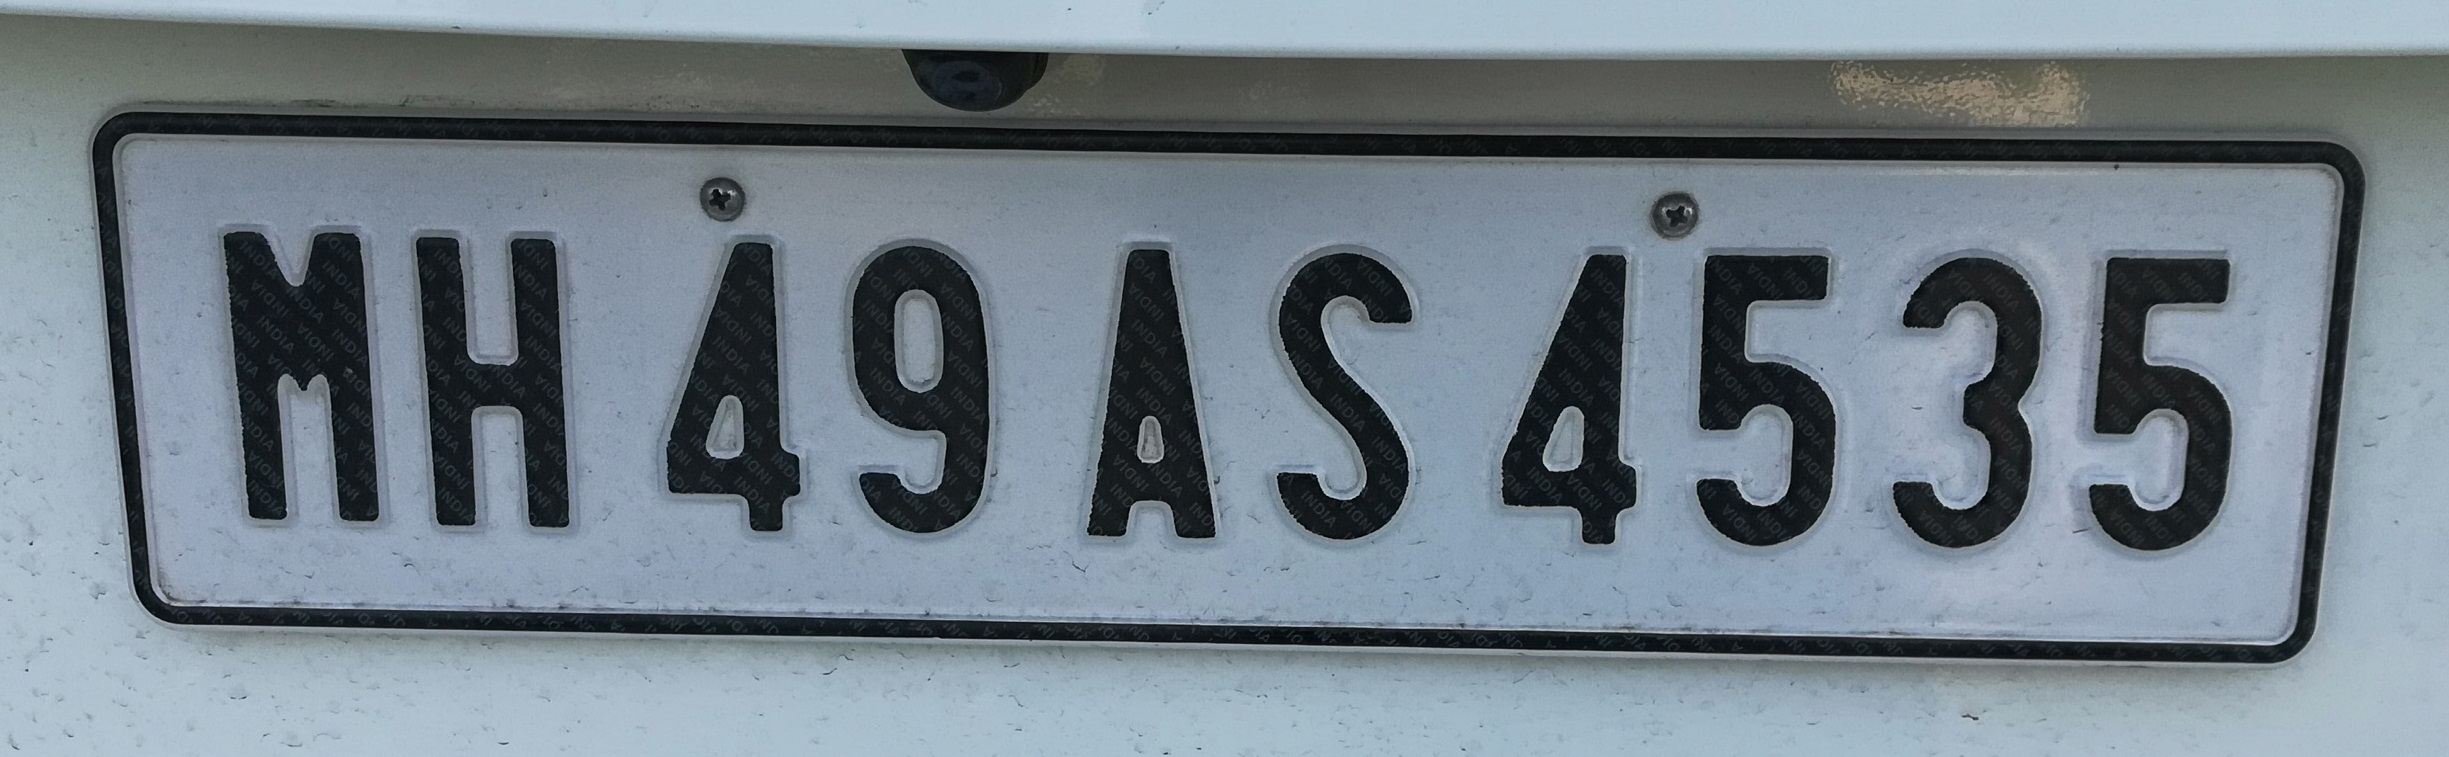numberplate: (76, 99, 2373, 682)
